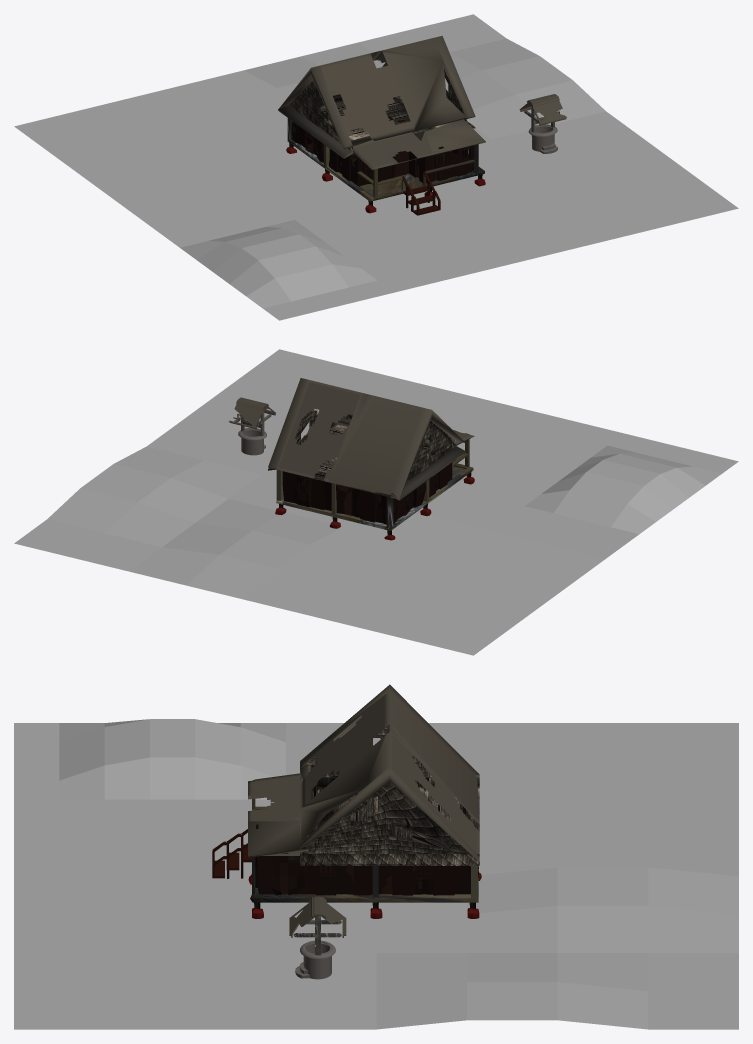
File: hauntedhouse.obj
The picture shows the model from 3 angles, top to bottom: view 1: azimuth 30°, elevation 25°; view 2: azimuth 150°, elevation 25°; view 3: azimuth 270°, elevation 25°; orthographic projection. The views are drawn at different scales.
Visible parts, largest first — view 1: tanah_Plane, rumah_Mesh.006, sumur_2_Mesh.003; view 2: tanah_Plane, rumah_Mesh.006, sumur_2_Mesh.003; view 3: tanah_Plane, rumah_Mesh.006, sumur_2_Mesh.003.
Boxes of the visible parts, <box> form: tanah_Plane: <box>14,14,738,320</box>; rumah_Mesh.006: <box>278,35,485,215</box>; sumur_2_Mesh.003: <box>519,94,566,153</box>; tanah_Plane: <box>14,349,738,655</box>; rumah_Mesh.006: <box>268,378,474,540</box>; sumur_2_Mesh.003: <box>228,397,275,455</box>; tanah_Plane: <box>14,719,738,1029</box>; rumah_Mesh.006: <box>212,684,481,918</box>; sumur_2_Mesh.003: <box>289,896,346,979</box>.
Size of the model in its own units: 45.49 by 10.53 by 45.49.
